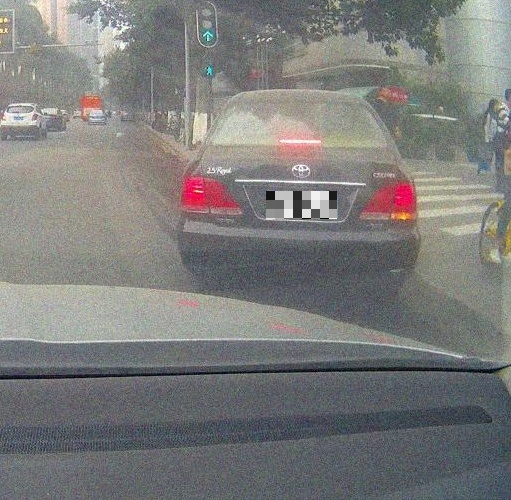L_light: (180, 177, 242, 214), (1, 114, 6, 121)
R_light: (359, 183, 417, 220), (31, 114, 38, 121)
T_light: (278, 138, 322, 145), (17, 105, 24, 108)
day-brake: (176, 89, 421, 290)
day-no: (0, 103, 39, 140)
plate_1: (266, 191, 337, 219)
